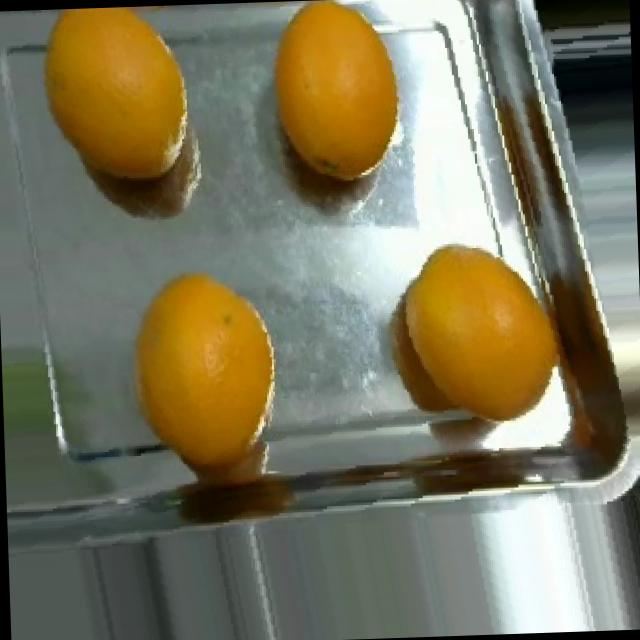Fruit: (19, 3, 220, 216), (249, 0, 426, 205)
